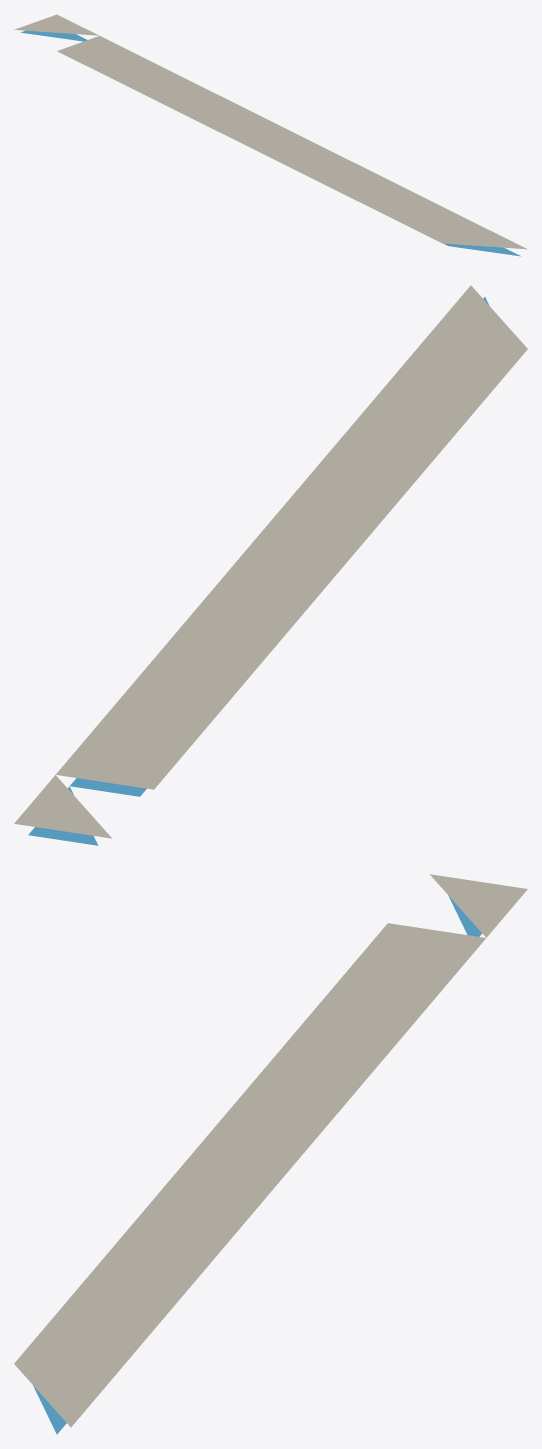
The picture shows the model from 3 angles, top to bottom: view 1: azimuth 30°, elevation 25°; view 2: azimuth 150°, elevation 25°; view 3: azimuth 330°, elevation 25°; orthographic projection. The views are drawn at different scales.
Parts seen in each view (by area): view 1: estructura_terreno, estructura_agua; view 2: estructura_terreno, estructura_agua; view 3: estructura_terreno, estructura_agua.
Boxes of the visible parts, x1,y1,x2,y2 form: estructura_terreno: (14, 14, 527, 249); estructura_agua: (20, 30, 520, 256); estructura_terreno: (14, 285, 527, 838); estructura_agua: (28, 297, 489, 845); estructura_terreno: (14, 874, 527, 1427); estructura_agua: (33, 896, 481, 1434).
Bounding box in the file's own units: 13.82 × 0.41 × 53.54.
